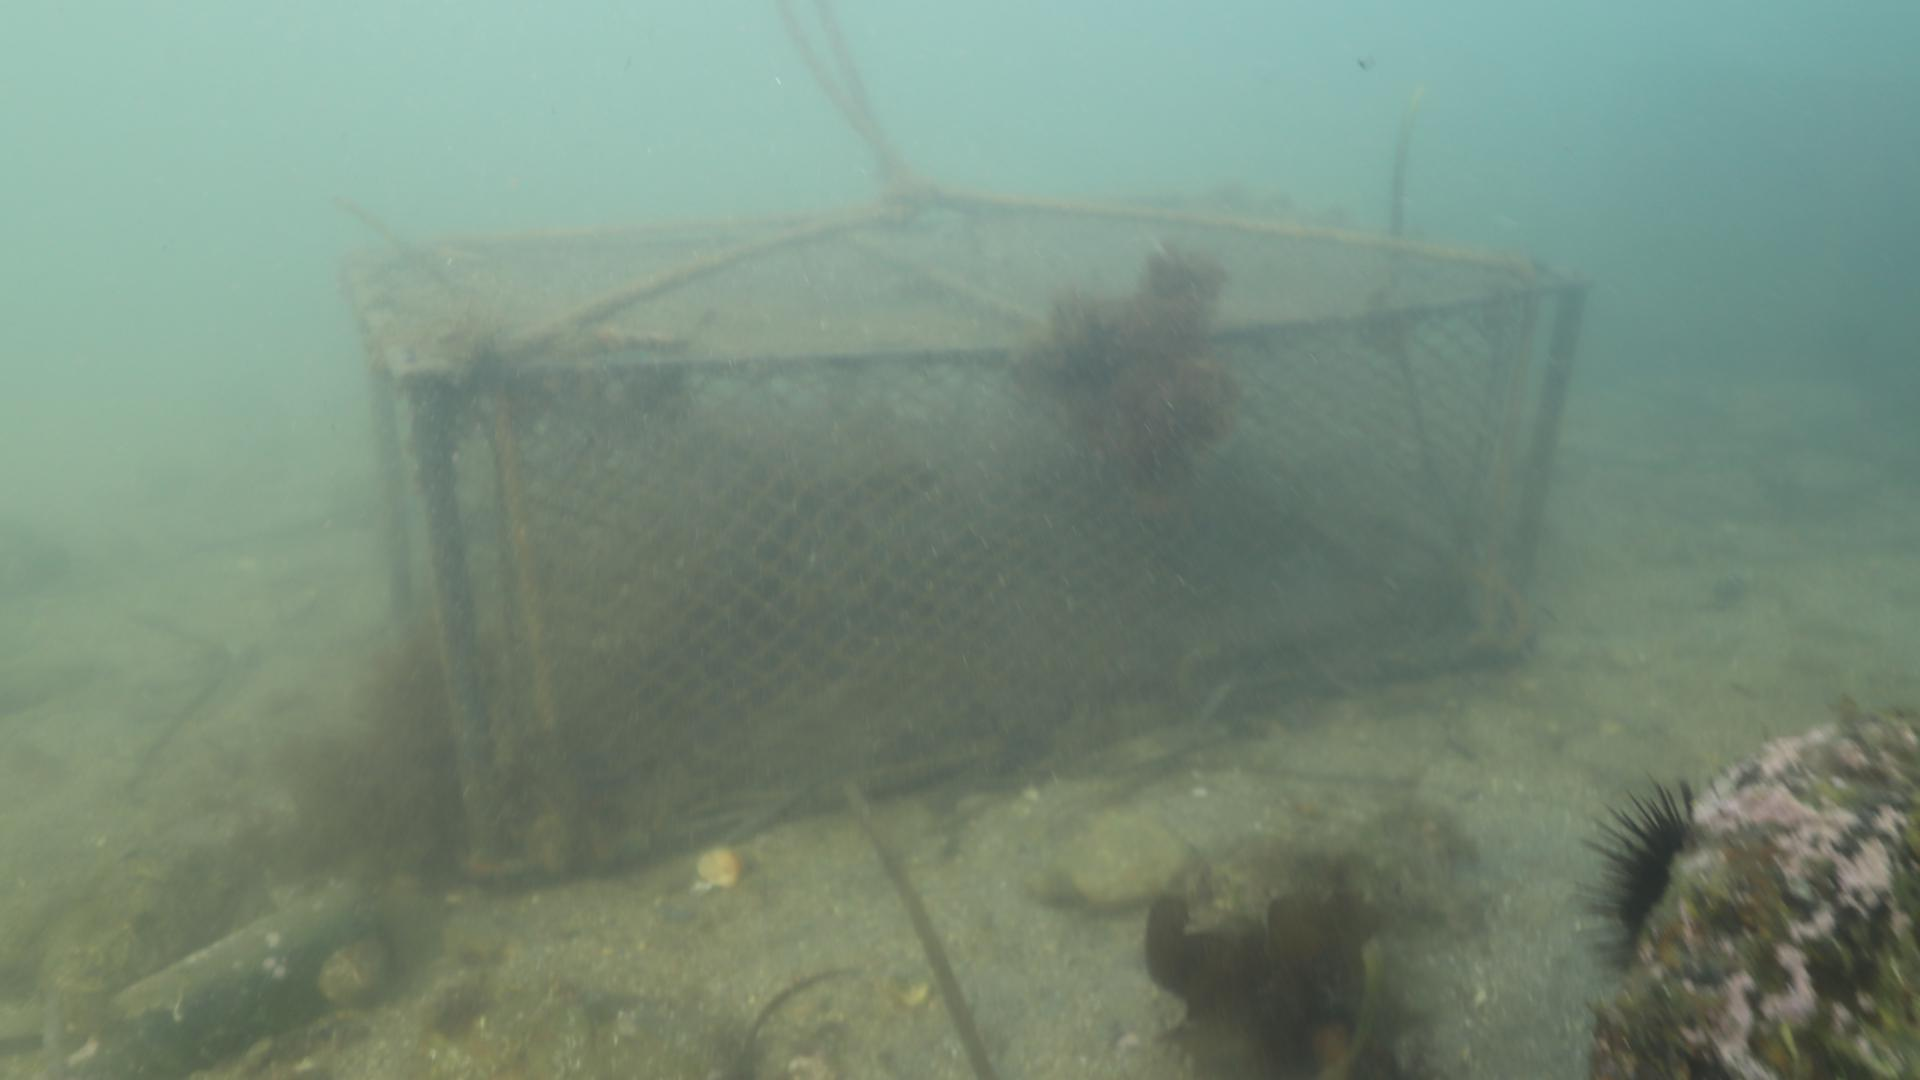bundle of ropes: (774, 0, 931, 204)
rectangular fish trap: (348, 177, 1598, 882)
